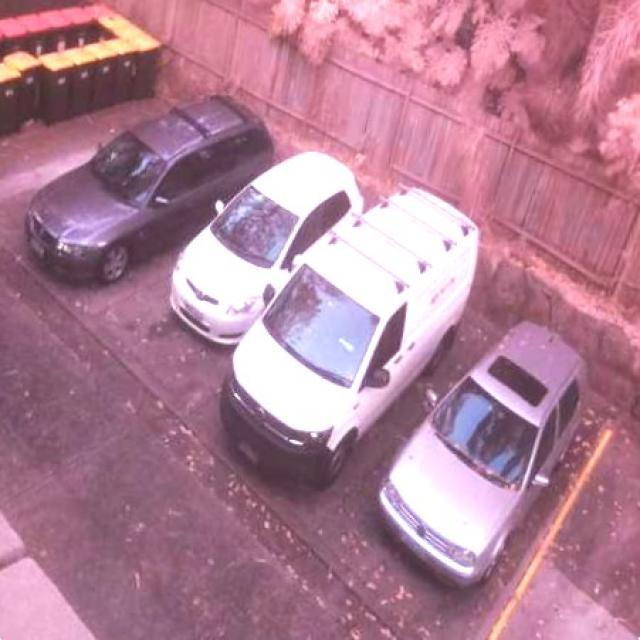Legalparking: (26, 40, 584, 619)
